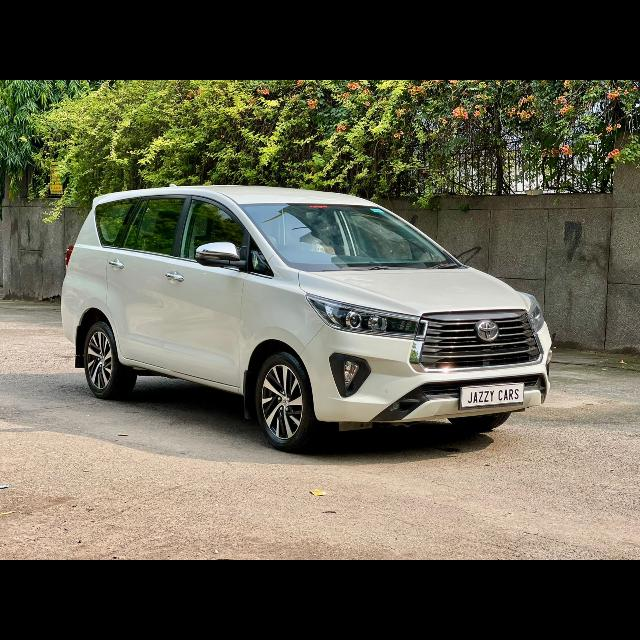vehicles: (59, 182, 555, 446)
